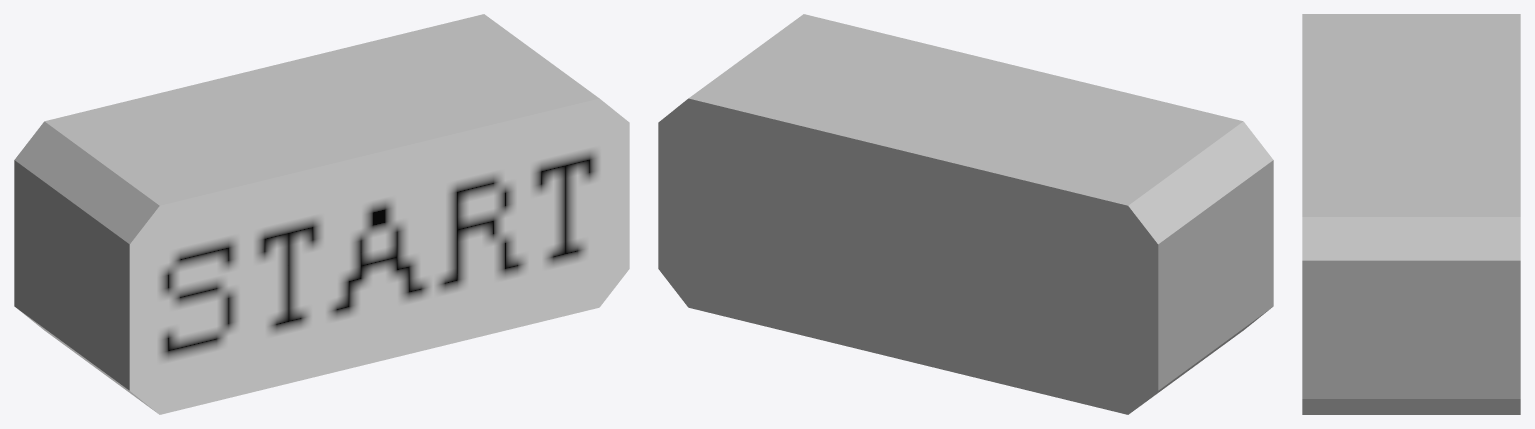
Rendered from start.fbx.
3 views of the same model, side by side, from view 1: azimuth 30°, elevation 25°; view 2: azimuth 150°, elevation 25°; view 3: azimuth 270°, elevation 25° (orthographic). The views are drawn at different scales.
Parts seen in each view (by area): view 1: Cube; view 2: Cube; view 3: Cube.
Part boxes in pixels (x1=…): Cube: x1=14, y1=14, x2=629, y2=414; Cube: x1=658, y1=14, x2=1273, y2=414; Cube: x1=1302, y1=14, x2=1520, y2=414.
Bounding box in the file's own units: 2 × 2 × 5.
